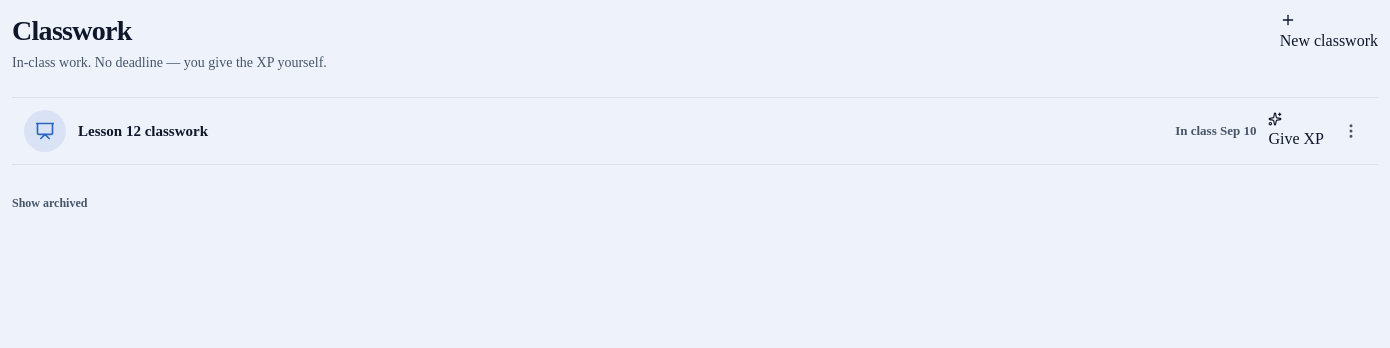
Test: Classwork tab › keeps archived classwork reachable, in its own section and without XP
Click the button "Show archived". click: (50, 203)
box: [12, 195, 88, 211]
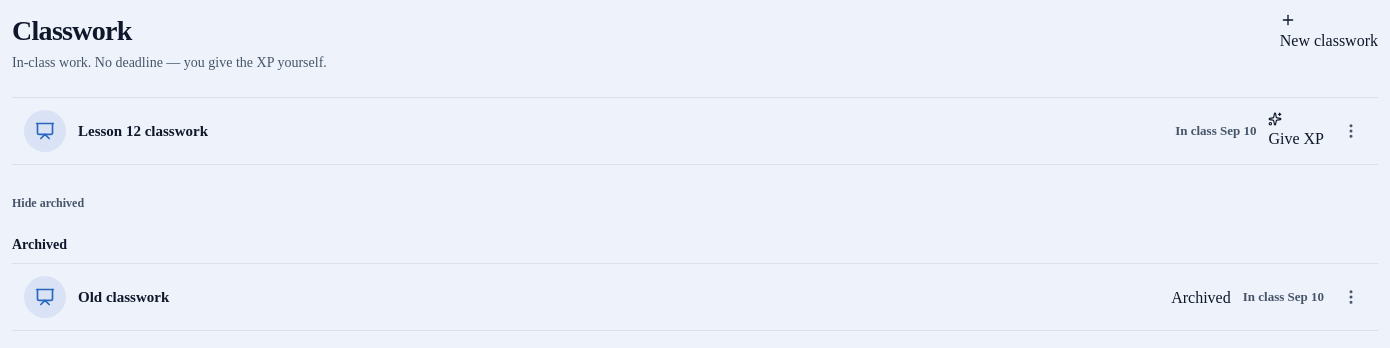
Now the text "Old classwork" is shown, box [78, 289, 169, 305]
